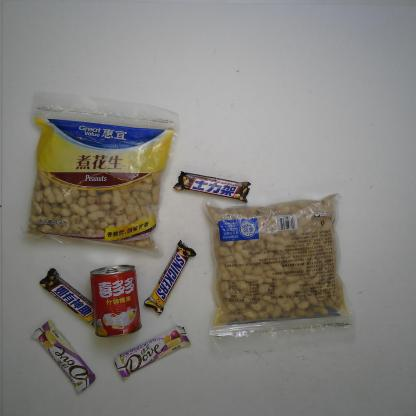Canned Food: (87, 262, 143, 338)
Chocolate: (28, 318, 98, 400), (38, 266, 106, 334), (140, 236, 197, 315), (109, 325, 192, 379), (170, 167, 254, 205)
Dried Food: (15, 88, 186, 264), (199, 189, 362, 343)
